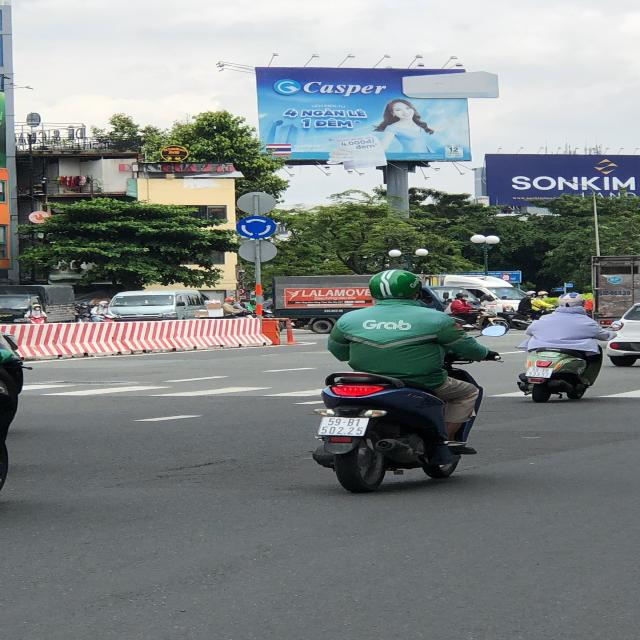Bien bao noi giao nhau chay theo vong xuyen: (234, 215, 281, 240)
